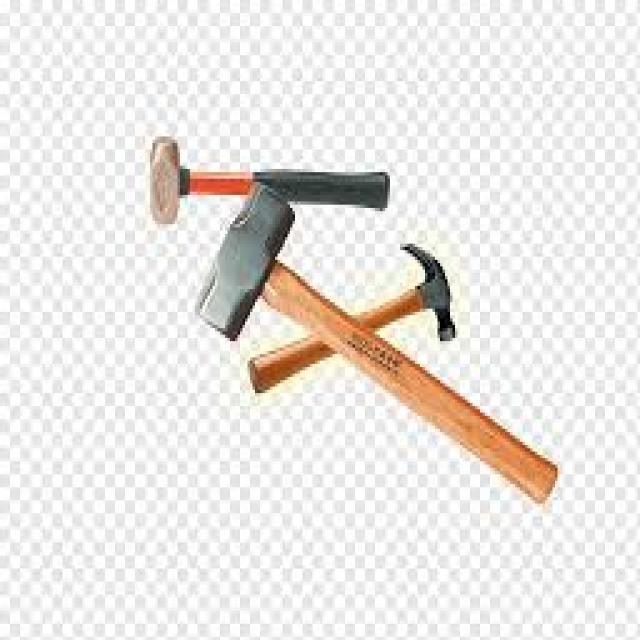Palu: (186, 180, 559, 512), (242, 238, 458, 396), (151, 133, 399, 236)
